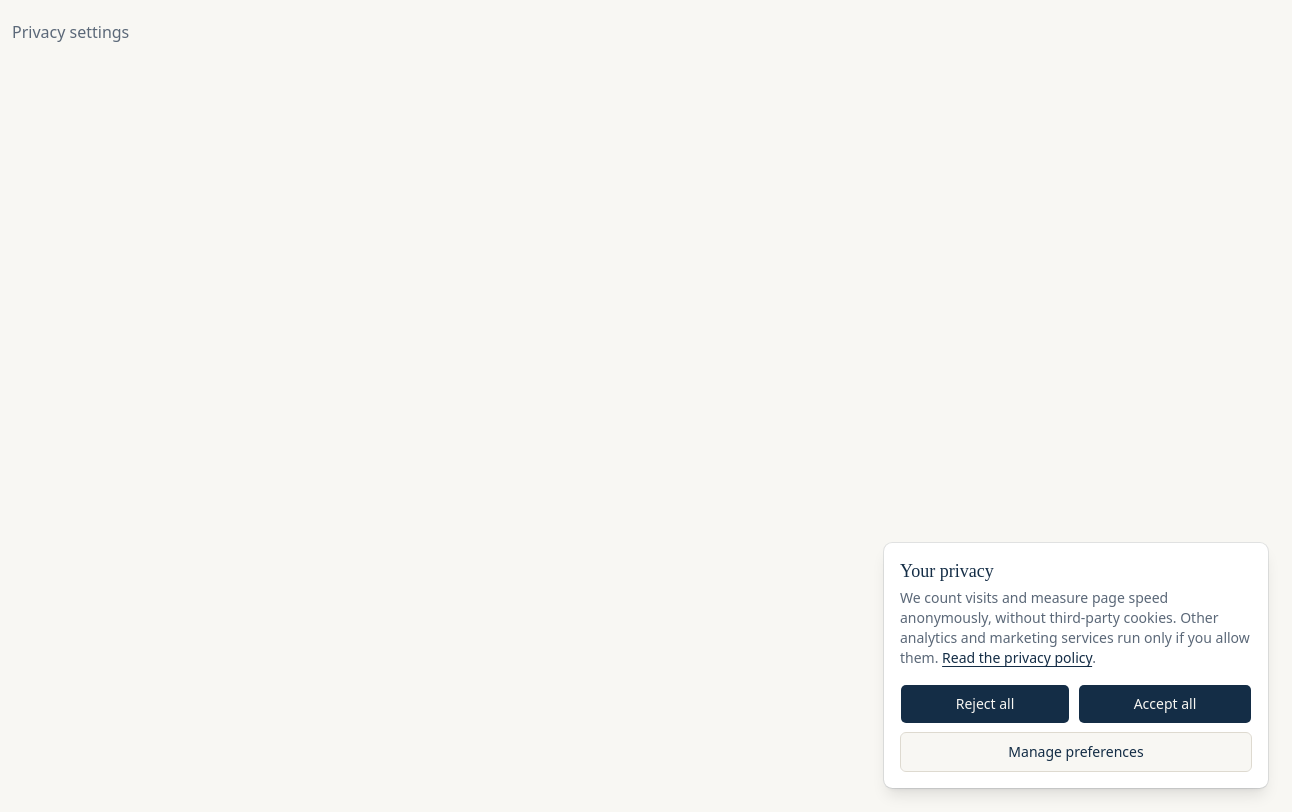
Test: accepting all saves the choice, closes the prompt and starts waiting services
Click the button "Accept all": (1165, 704) x1=1078 y1=684 x2=1252 y2=724
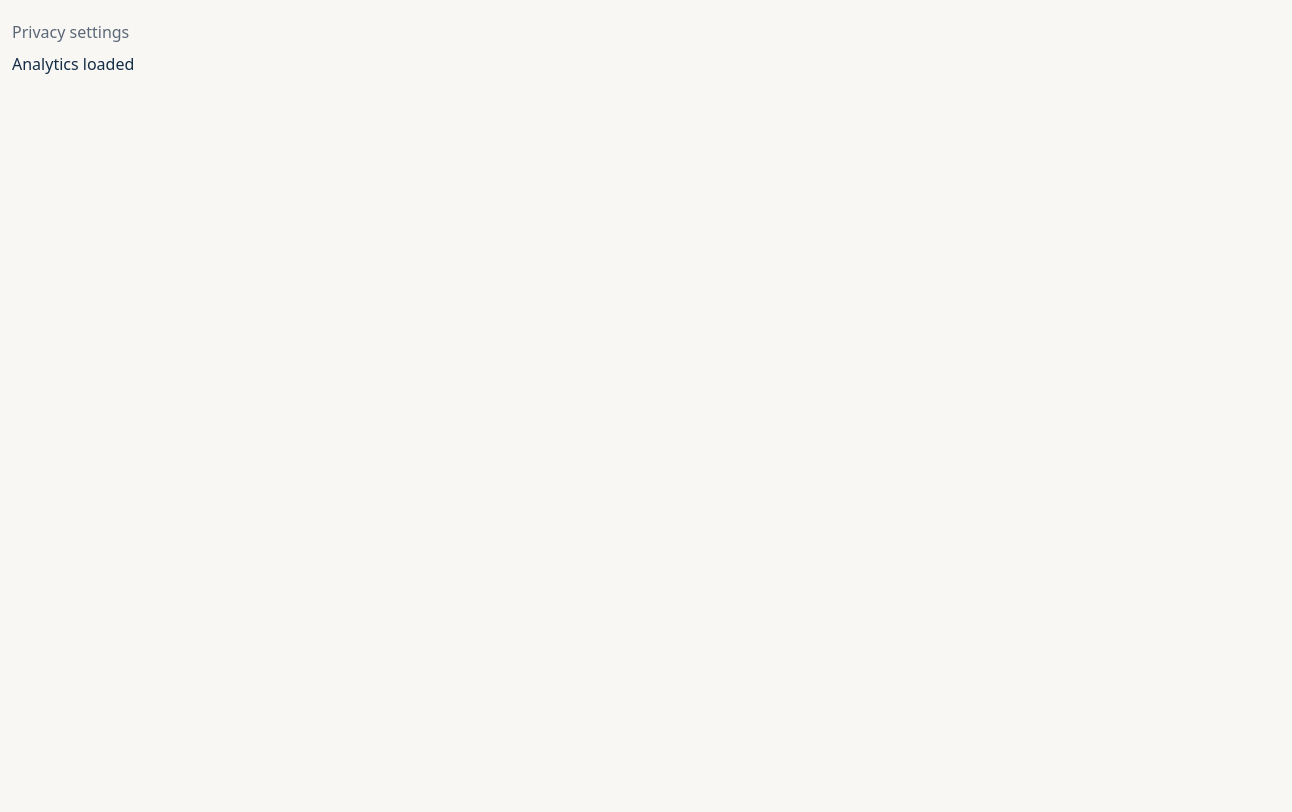
Expected: the text "Analytics loaded" is shown, x1=12 y1=53 x2=134 y2=75
